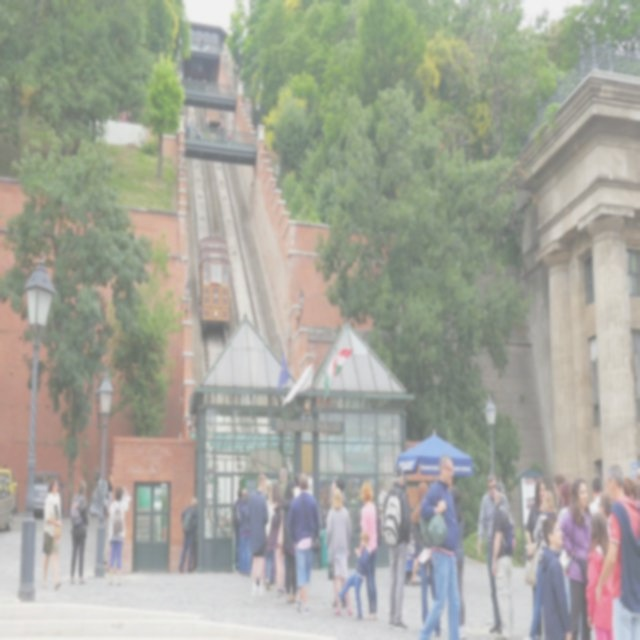pessoa: (416, 452, 462, 639), (596, 461, 640, 639), (558, 476, 594, 639), (477, 469, 512, 636), (412, 477, 444, 639), (382, 462, 412, 634), (286, 471, 322, 614), (524, 489, 558, 639), (490, 478, 517, 638), (538, 513, 572, 639), (584, 511, 616, 638), (324, 486, 354, 618), (334, 528, 372, 622), (102, 484, 132, 588), (358, 478, 379, 622), (450, 484, 469, 639), (246, 470, 268, 598), (40, 476, 63, 592), (280, 476, 300, 603), (556, 478, 574, 618), (68, 478, 90, 586), (524, 476, 548, 574), (176, 494, 198, 574), (266, 516, 285, 595), (236, 486, 251, 574), (238, 492, 253, 577), (586, 473, 606, 520), (233, 487, 244, 572), (265, 478, 283, 516), (184, 116, 209, 143), (552, 474, 568, 514), (596, 490, 614, 522), (105, 466, 115, 522), (190, 509, 198, 572), (624, 466, 639, 498), (277, 466, 289, 502), (218, 116, 232, 145), (376, 480, 387, 515), (349, 486, 362, 506), (330, 474, 345, 489), (118, 109, 132, 123), (293, 474, 300, 494)
